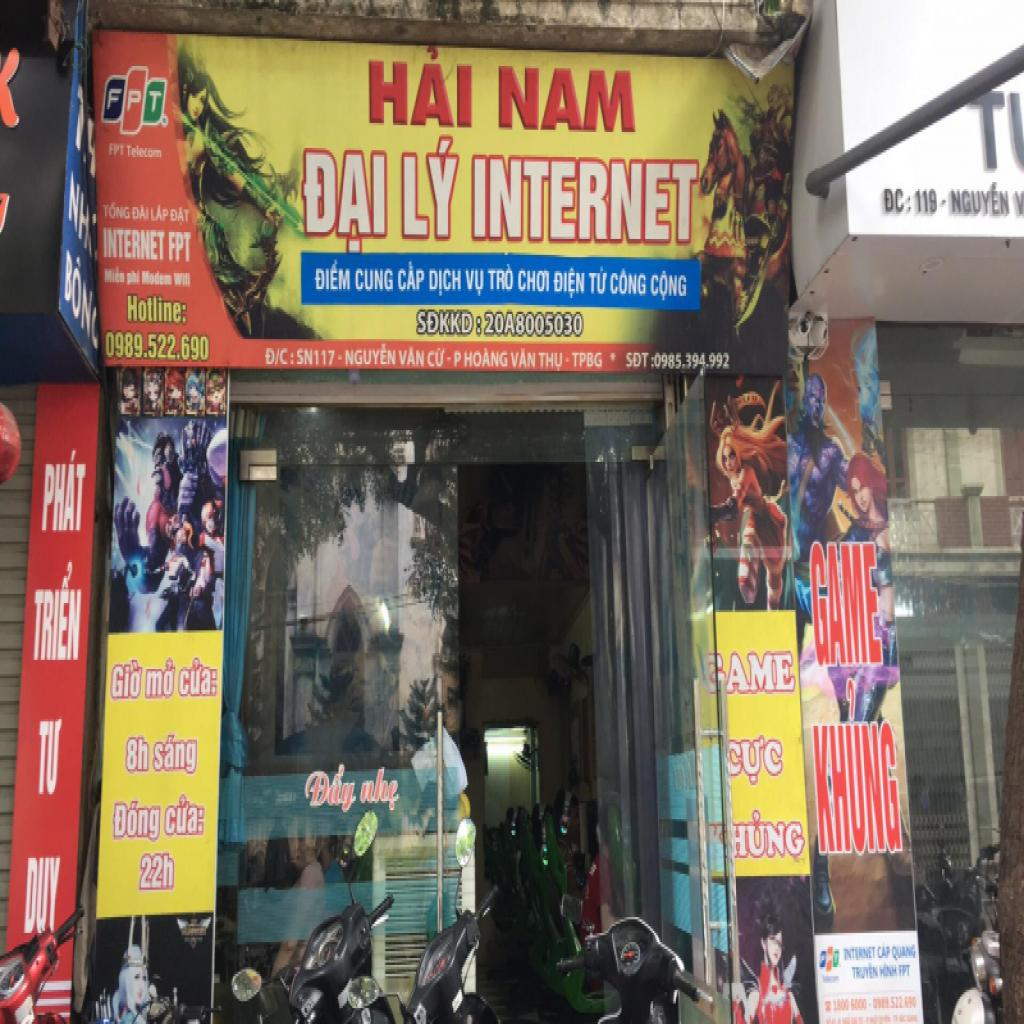text: (472, 155, 700, 241), (810, 673, 904, 858), (804, 542, 887, 671), (300, 144, 389, 260), (366, 43, 475, 130), (498, 66, 636, 134), (400, 134, 460, 244), (31, 562, 83, 665), (702, 648, 798, 698), (731, 808, 808, 862), (41, 448, 90, 532), (61, 242, 96, 342), (722, 733, 786, 787), (104, 330, 210, 362), (22, 856, 62, 938), (968, 91, 1007, 175), (484, 310, 585, 342), (302, 762, 360, 817), (950, 175, 1011, 221), (151, 730, 200, 780), (37, 714, 65, 798), (357, 764, 403, 812), (102, 228, 166, 262), (414, 307, 482, 339), (112, 801, 162, 844), (67, 168, 92, 252), (162, 794, 208, 838), (126, 296, 188, 328), (108, 656, 144, 704), (178, 658, 220, 698), (344, 339, 398, 369), (138, 851, 177, 892), (653, 353, 731, 373), (649, 269, 689, 307), (312, 257, 352, 294), (146, 658, 178, 701), (553, 266, 587, 300), (428, 266, 464, 298), (464, 346, 510, 371), (123, 735, 151, 776), (609, 268, 648, 296), (882, 184, 913, 216), (356, 268, 394, 294), (872, 992, 919, 1013), (518, 268, 552, 296), (297, 346, 337, 369), (397, 262, 425, 294), (488, 262, 514, 294), (914, 184, 939, 216), (841, 944, 877, 965), (831, 997, 868, 1017), (169, 232, 192, 264), (572, 348, 604, 371), (588, 264, 610, 296), (510, 346, 538, 371), (538, 350, 564, 376), (398, 344, 426, 368), (624, 350, 656, 371), (127, 144, 164, 162), (142, 269, 174, 289), (426, 344, 448, 373), (465, 269, 485, 298), (265, 346, 294, 366), (852, 963, 880, 983), (104, 200, 130, 221), (892, 942, 918, 963), (877, 960, 900, 983), (170, 204, 192, 228), (106, 86, 124, 114), (104, 266, 126, 287), (147, 91, 163, 116), (150, 205, 170, 225), (132, 200, 151, 221), (174, 271, 193, 291), (127, 89, 142, 114), (877, 940, 892, 962), (898, 960, 912, 983), (127, 269, 142, 289), (1014, 189, 1024, 218), (108, 144, 126, 160), (452, 348, 463, 371)
